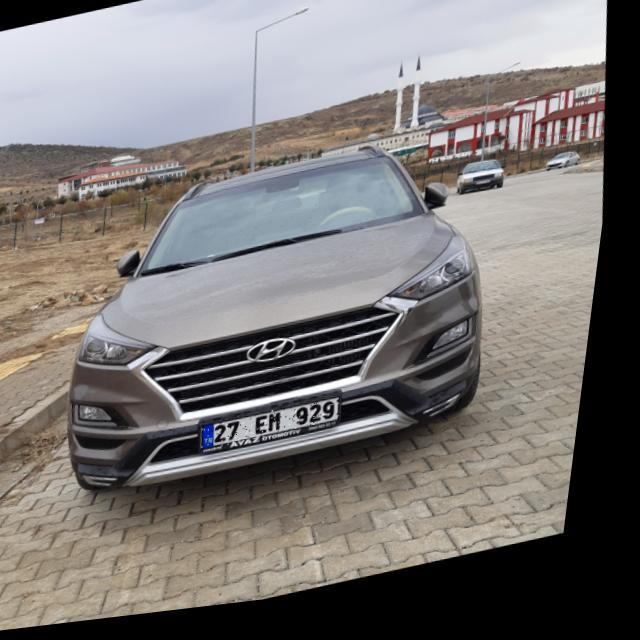license_plate: (210, 405, 354, 457)
